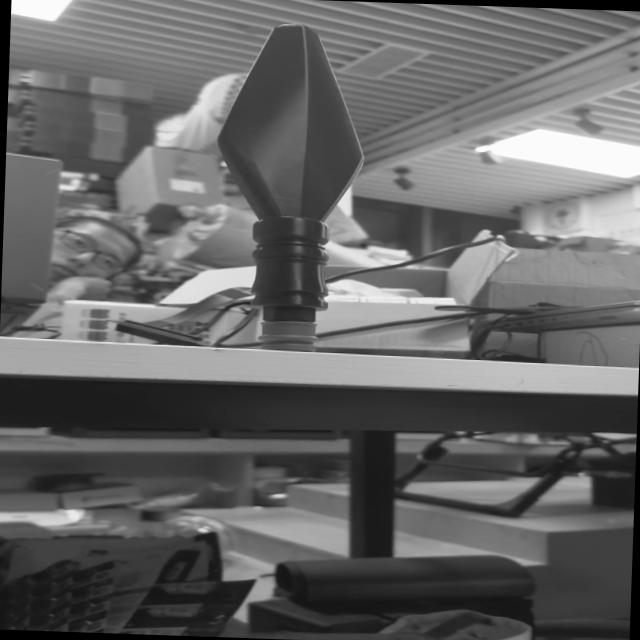base: (256, 317, 322, 355)
